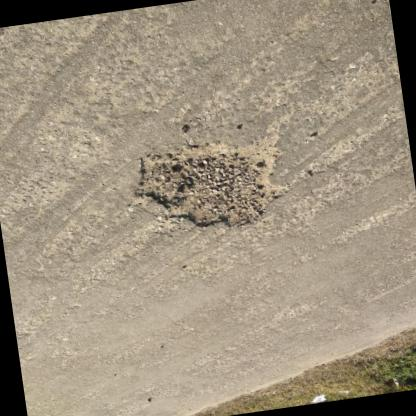pothole: (126, 132, 296, 244)
